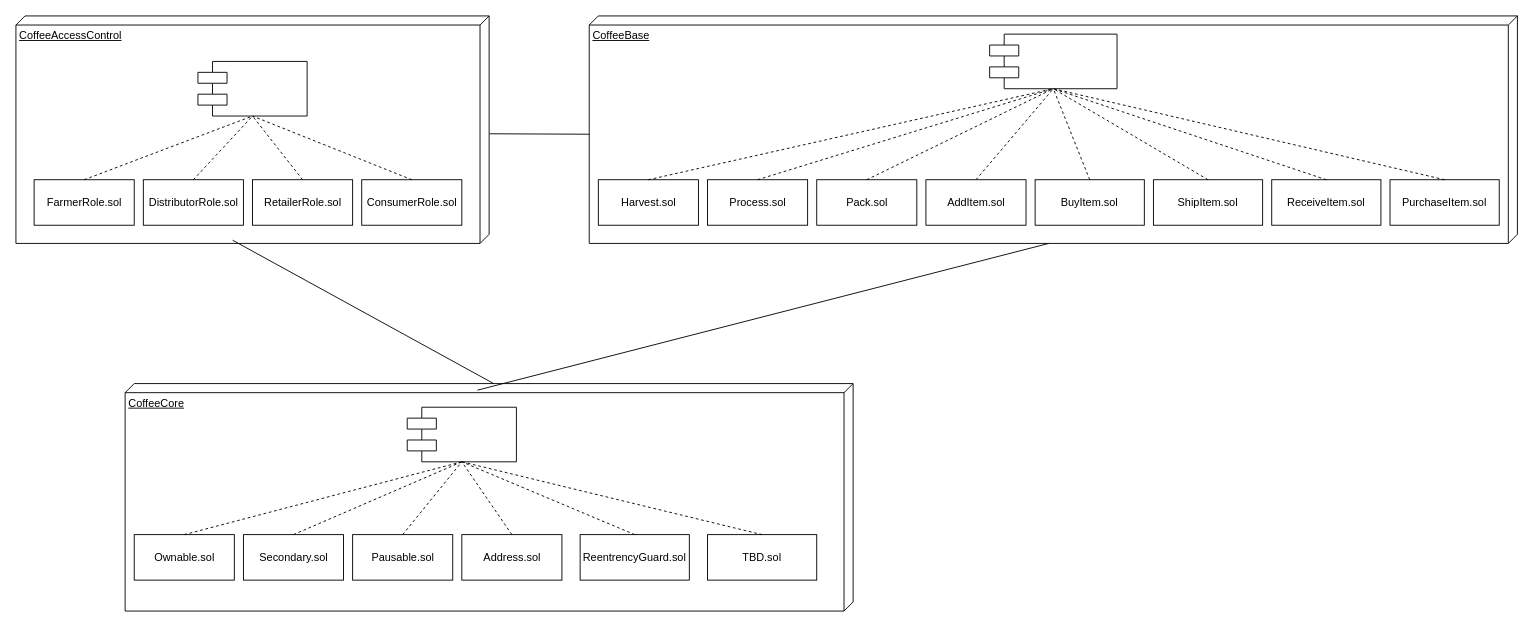
Image size: 1533x627. Some labels were removed from this diagram. The centre of each missing label's shape, as x and y in pixels:
"Roles.sol" belongs at pixel 252 88.
"SupplyChain.sol" belongs at pixel 1053 61.
"ValueChain.sol" belongs at pixel 461 434.
